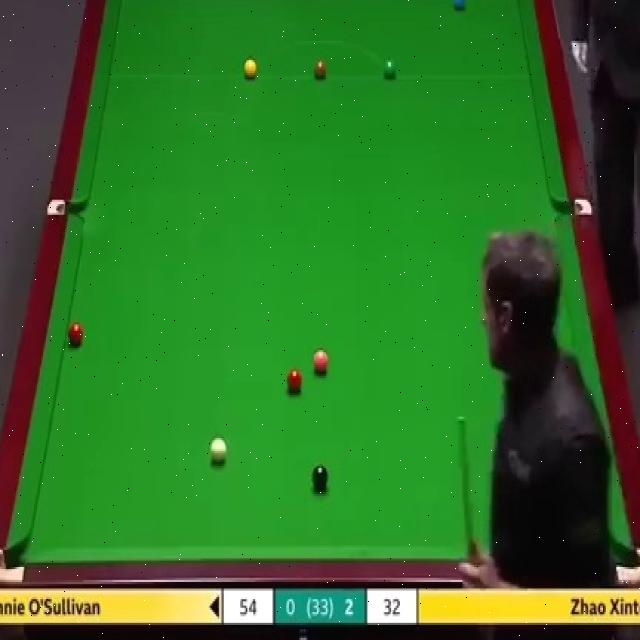black-ball: (311, 466, 329, 489)
blue-ball: (450, 0, 467, 11)
brown-ball: (313, 60, 327, 78)
green-ball: (382, 56, 398, 81)
pink-ball: (311, 348, 330, 374)
red-ball: (68, 321, 84, 346), (286, 368, 302, 392)
white-ball: (209, 436, 228, 466)
yellow-ball: (242, 57, 258, 79)
